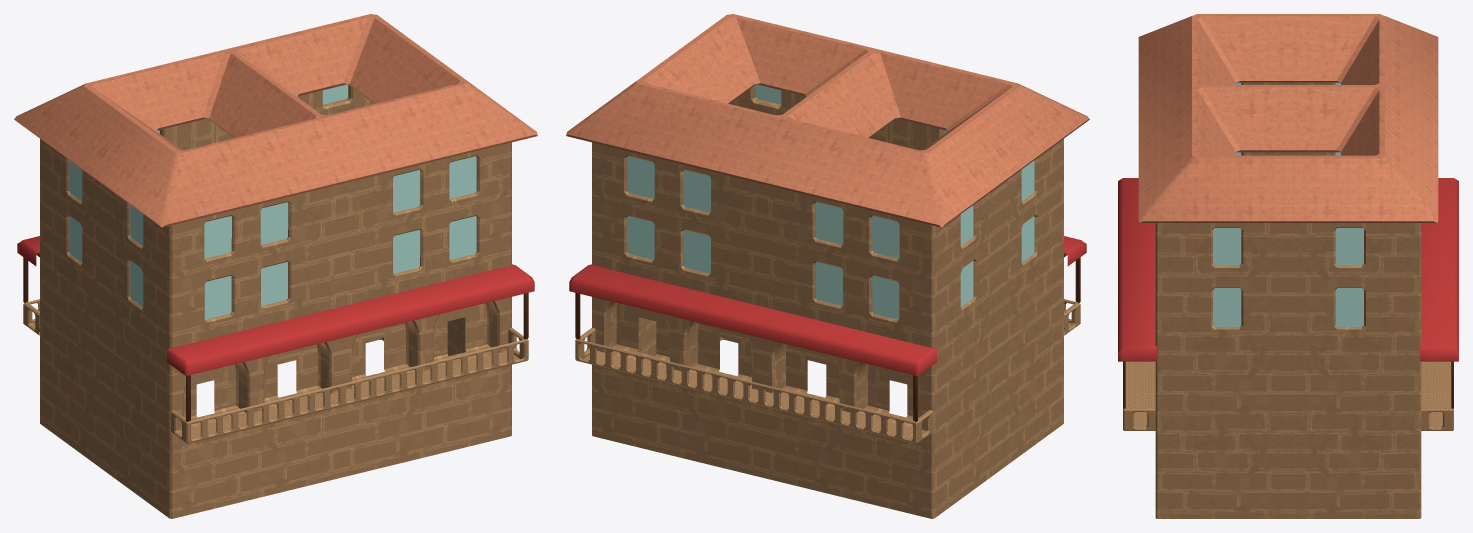
Rendered from mesh_house_double.fbx.
The picture shows the model from 3 angles, left to right: view 1: azimuth 30°, elevation 25°; view 2: azimuth 150°, elevation 25°; view 3: azimuth 270°, elevation 25°; orthographic projection.
Parts seen in each view (by area): view 1: house_double, Roof, Plane.001, Terrace, house_double.001, house_double.004, house_double.002, house_double.003, house_double.006, house_double.005, Terrace.002; view 2: house_double, Roof, Plane.001, Terrace, house_double.001, house_double.004, house_double.002, house_double.003, house_double.006, house_double.005, Terrace.002; view 3: house_double, Roof, Plane.001, Terrace, house_double.006, house_double.005.
Boxes of the visible parts, x1,y1,x2,y2 form: house_double: (40, 85, 511, 518); Roof: (14, 14, 537, 227); Plane.001: (17, 236, 534, 376); Terrace: (23, 299, 528, 443); house_double.001: (204, 84, 476, 258); house_double.004: (204, 216, 476, 319); house_double.002: (156, 130, 420, 244); house_double.003: (261, 230, 420, 305); house_double.006: (69, 216, 143, 307); house_double.005: (69, 160, 143, 246); Terrace.002: (23, 252, 528, 421); house_double: (592, 85, 1063, 518); Roof: (566, 14, 1089, 227); Plane.001: (569, 236, 1086, 376); Terrace: (575, 299, 1080, 443); house_double.001: (627, 84, 899, 258); house_double.004: (627, 216, 899, 319); house_double.002: (683, 130, 947, 244); house_double.003: (683, 230, 842, 305); house_double.006: (960, 216, 1034, 307); house_double.005: (960, 160, 1034, 246); Terrace.002: (575, 252, 1080, 421); house_double: (1155, 82, 1421, 518); Roof: (1138, 14, 1438, 222); Plane.001: (1118, 178, 1458, 361); Terrace: (1123, 361, 1453, 430); house_double.006: (1213, 152, 1363, 326); house_double.005: (1213, 82, 1363, 265).
Bounding box in the file's own units: 998 × 871 × 771.
